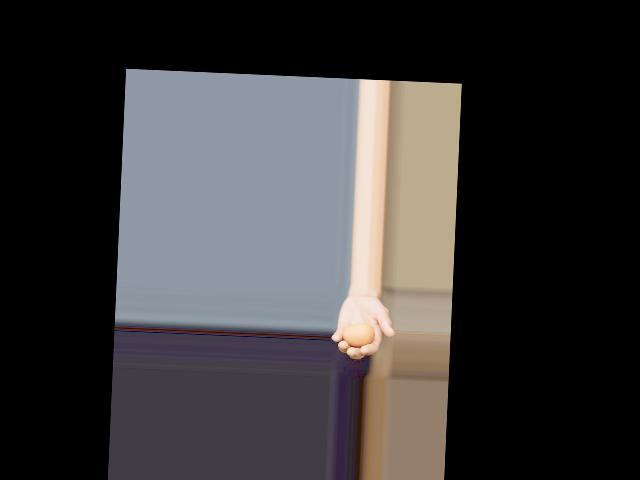egg: (341, 322, 374, 346)
